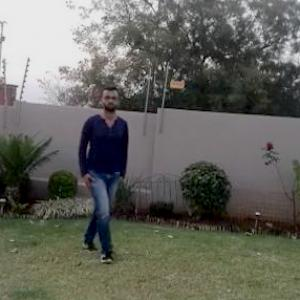follow: (79, 81, 128, 261)
